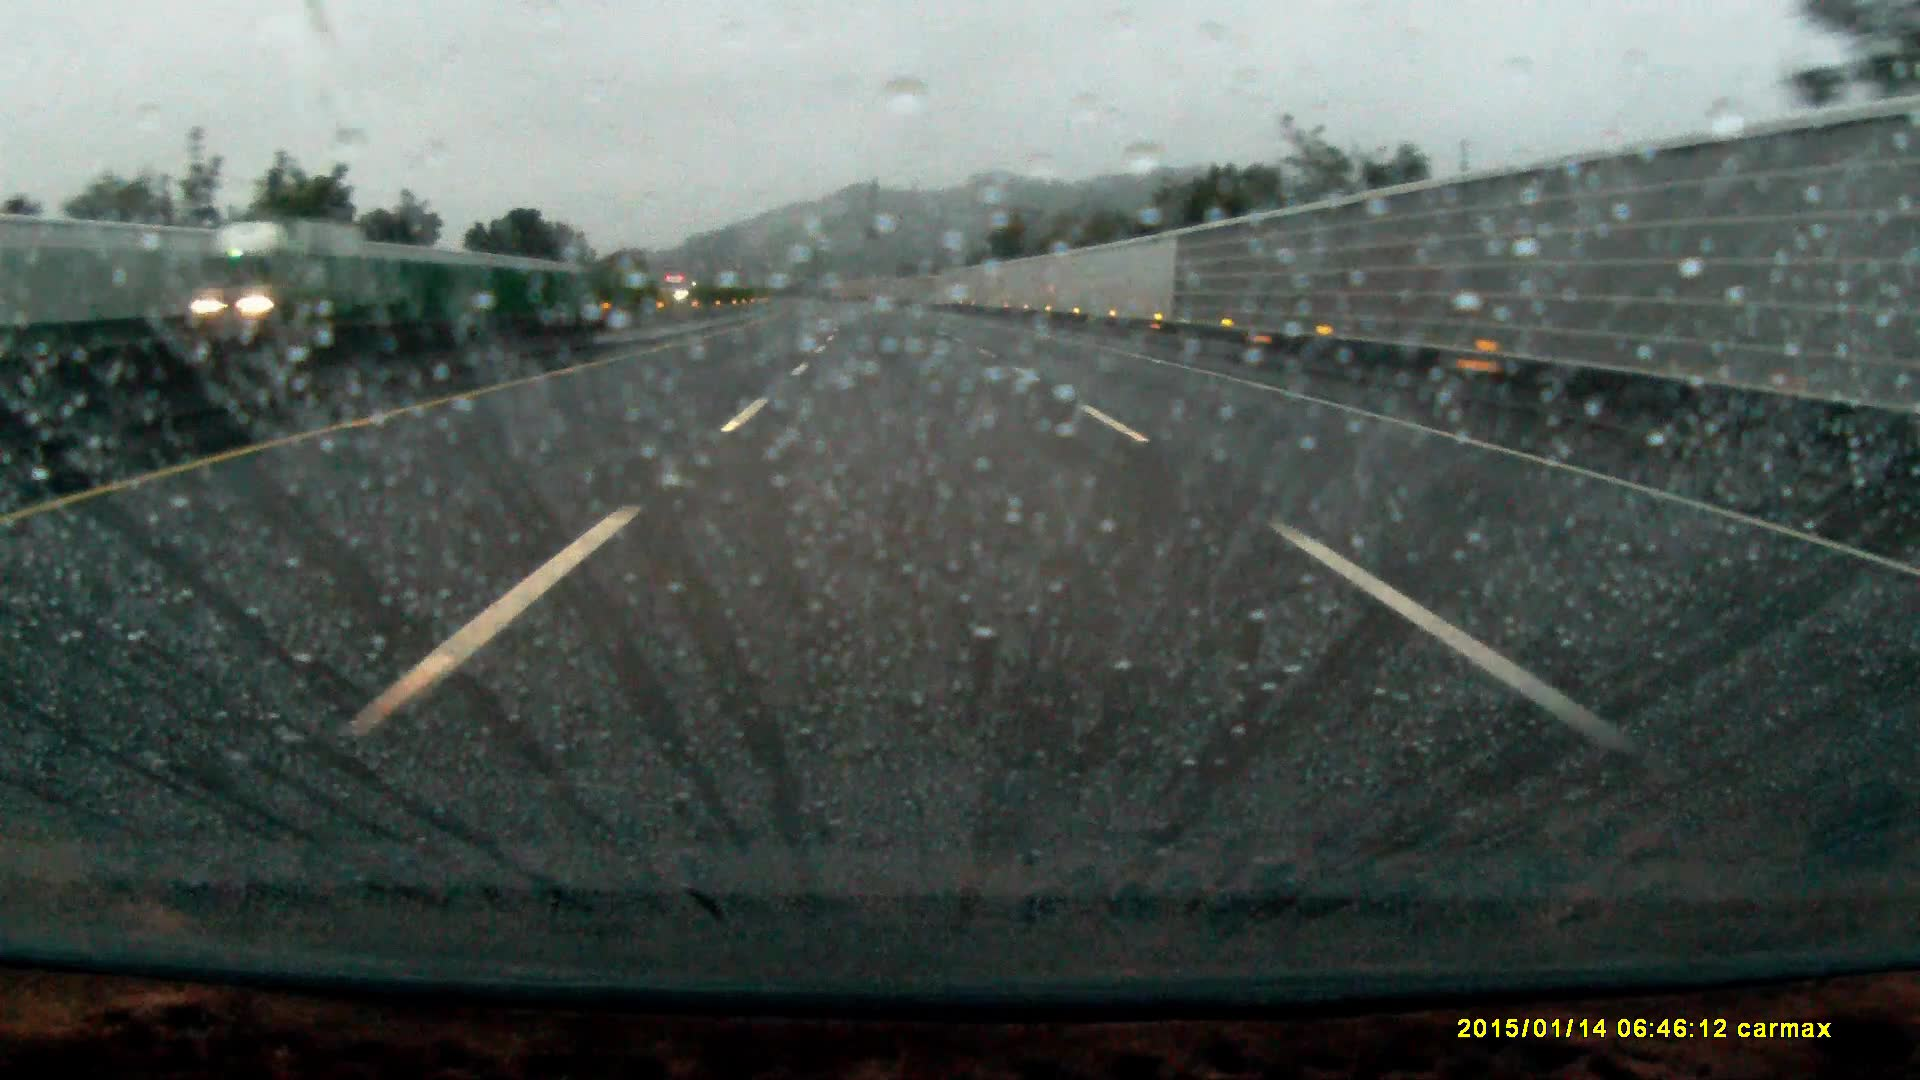vehicle: (200, 219, 359, 328)
